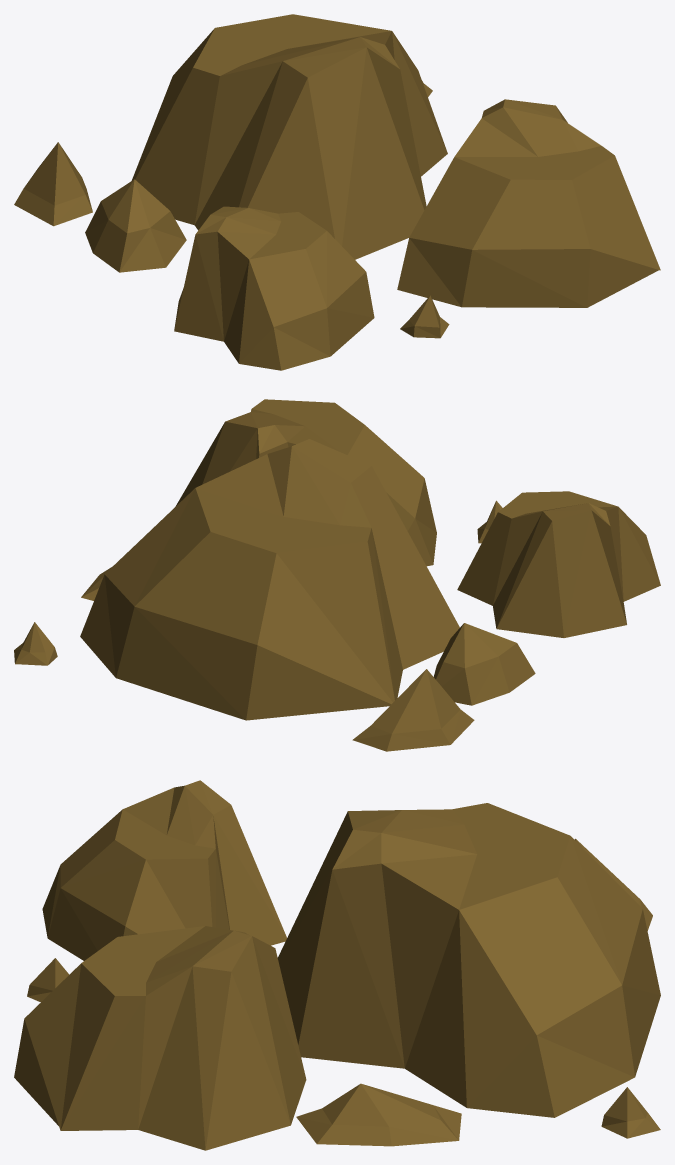
Rendered from obj_rock_slide_0.obj.
The picture shows the model from 3 angles, top to bottom: view 1: azimuth 30°, elevation 25°; view 2: azimuth 150°, elevation 25°; view 3: azimuth 270°, elevation 25°; orthographic projection. The views are drawn at different scales.
Size of the model in its own units: 1.89 by 0.6797 by 1.95.
